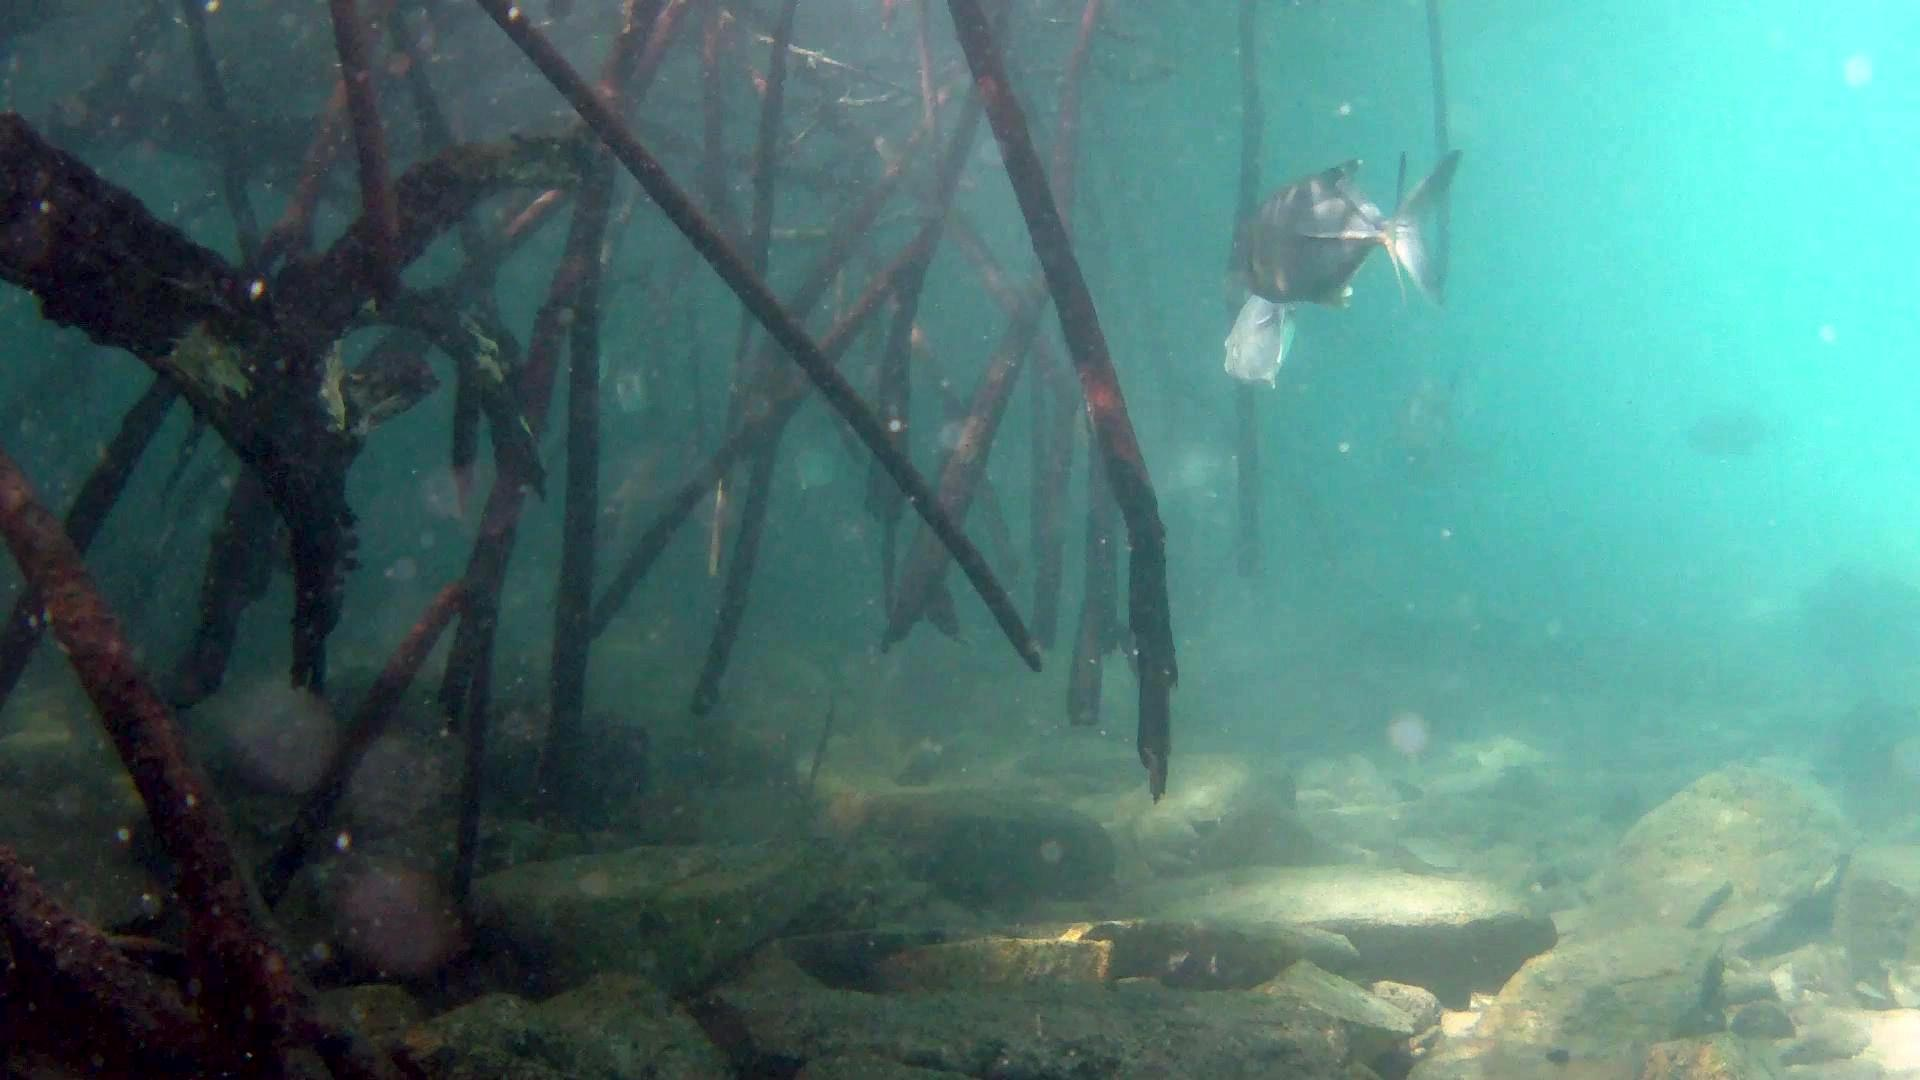caranx: (1224, 136, 1419, 326)
